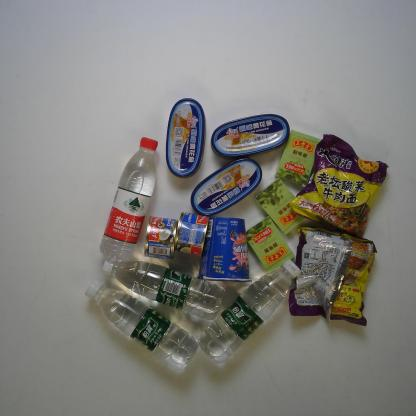Candy: (251, 175, 310, 236), (242, 214, 297, 274), (273, 128, 326, 188)
Canned Food: (188, 156, 262, 218), (208, 112, 291, 161), (164, 96, 208, 179), (168, 210, 212, 260), (142, 213, 182, 262)
Dessert: (194, 215, 254, 284)
Drink: (193, 255, 302, 368), (82, 277, 200, 367), (96, 249, 226, 322), (96, 135, 160, 263)
Instant Noodles: (283, 132, 392, 247), (286, 220, 378, 326)
